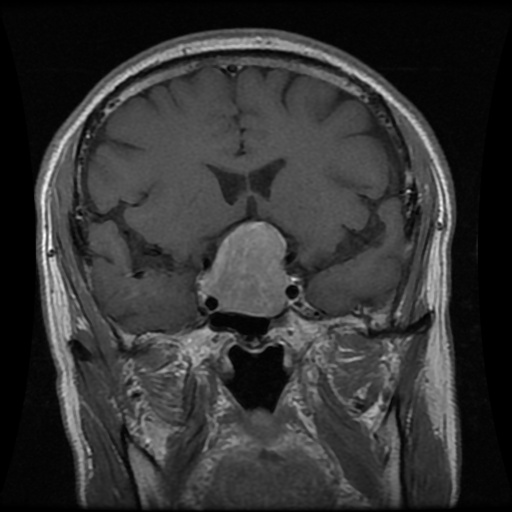pituitary: (196, 220, 291, 315)
